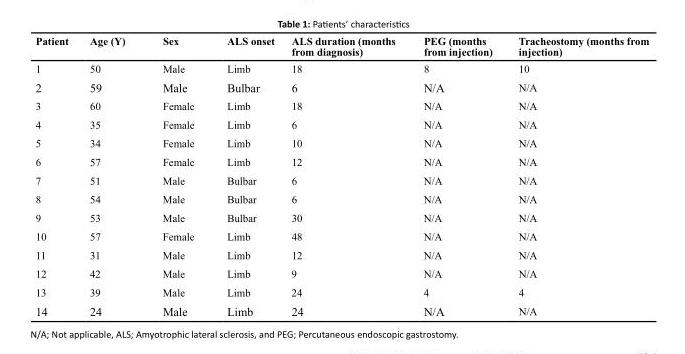table: (34, 34, 648, 317)
table column: (504, 34, 648, 317), (282, 34, 408, 317), (408, 34, 504, 317), (209, 34, 282, 317), (143, 34, 209, 317), (78, 34, 143, 317), (34, 34, 78, 317)
table column header: (34, 34, 648, 59)
table row: (34, 34, 648, 59), (34, 77, 648, 96), (34, 114, 648, 133), (34, 133, 648, 152), (34, 170, 648, 189), (34, 207, 648, 226), (34, 226, 648, 245), (34, 263, 648, 282), (34, 282, 648, 301), (34, 59, 648, 77), (34, 96, 648, 114), (34, 152, 648, 170), (34, 189, 648, 207), (34, 245, 648, 263), (34, 301, 648, 317)
